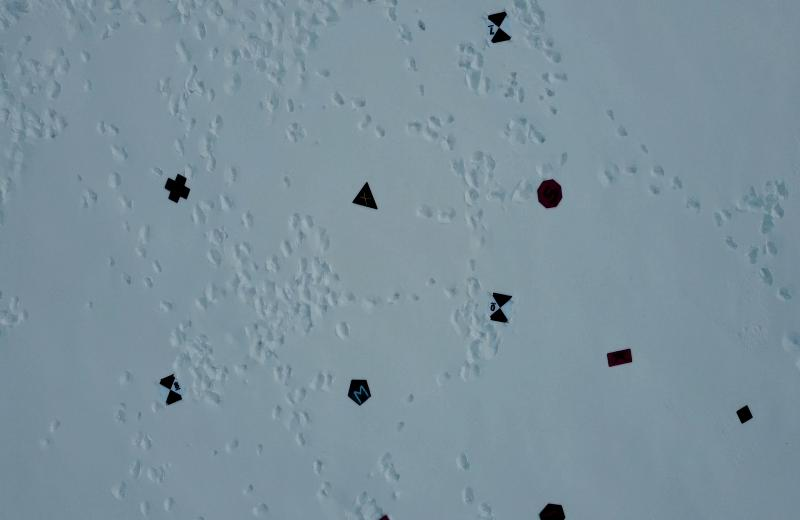Cross: (238, 24, 270, 58)
Octagon: (538, 286, 569, 324)
Pentagon: (344, 374, 374, 410)
Rectangle: (605, 342, 636, 375)
Triangle: (350, 180, 383, 213)
